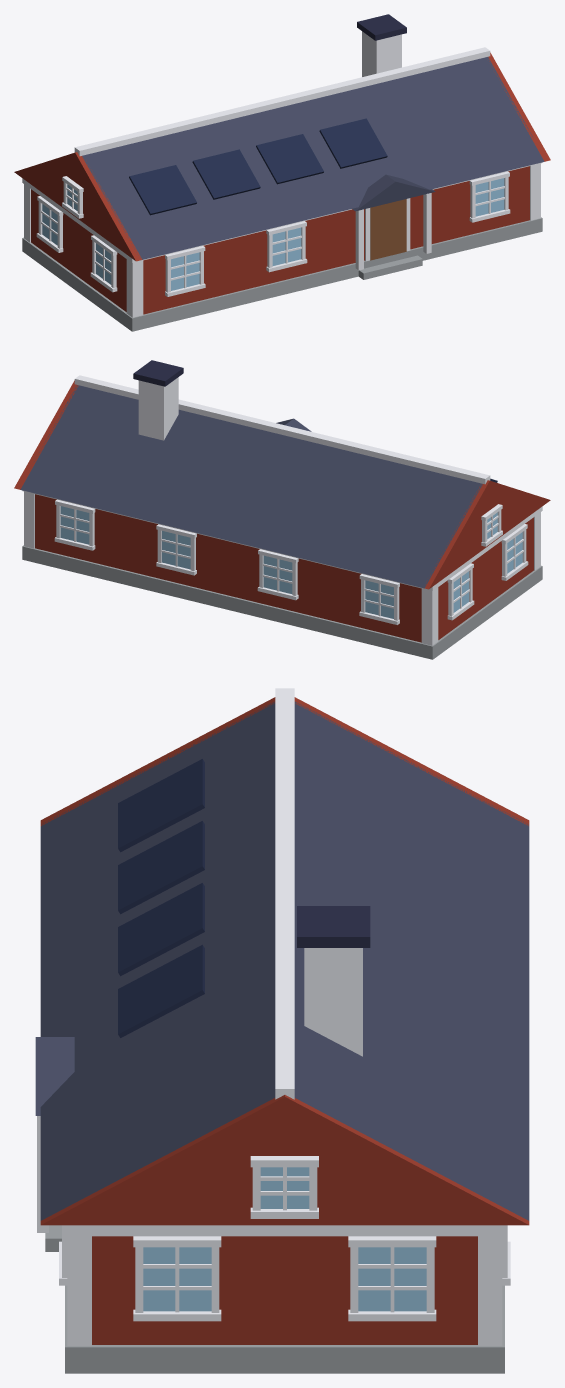
File: house-2x1-1f-stuga-a-solar.glb
3 views of the same model, one above another, from view 1: azimuth 30°, elevation 25°; view 2: azimuth 150°, elevation 25°; view 3: azimuth 270°, elevation 25° (orthographic). The views are drawn at different scales.
Visible parts, largest first — view 1: house-2x1-1f-stuga-a-solar; view 2: house-2x1-1f-stuga-a-solar; view 3: house-2x1-1f-stuga-a-solar.
Boxes of the visible parts, x1,y1,x2,y2 form: house-2x1-1f-stuga-a-solar: (14,14,550,331); house-2x1-1f-stuga-a-solar: (14,360,550,659); house-2x1-1f-stuga-a-solar: (35,688,529,1373).
Size of the model in its own units: 2 by 0.815 by 1.01.
Materials: 1 (1 with a texture image).
